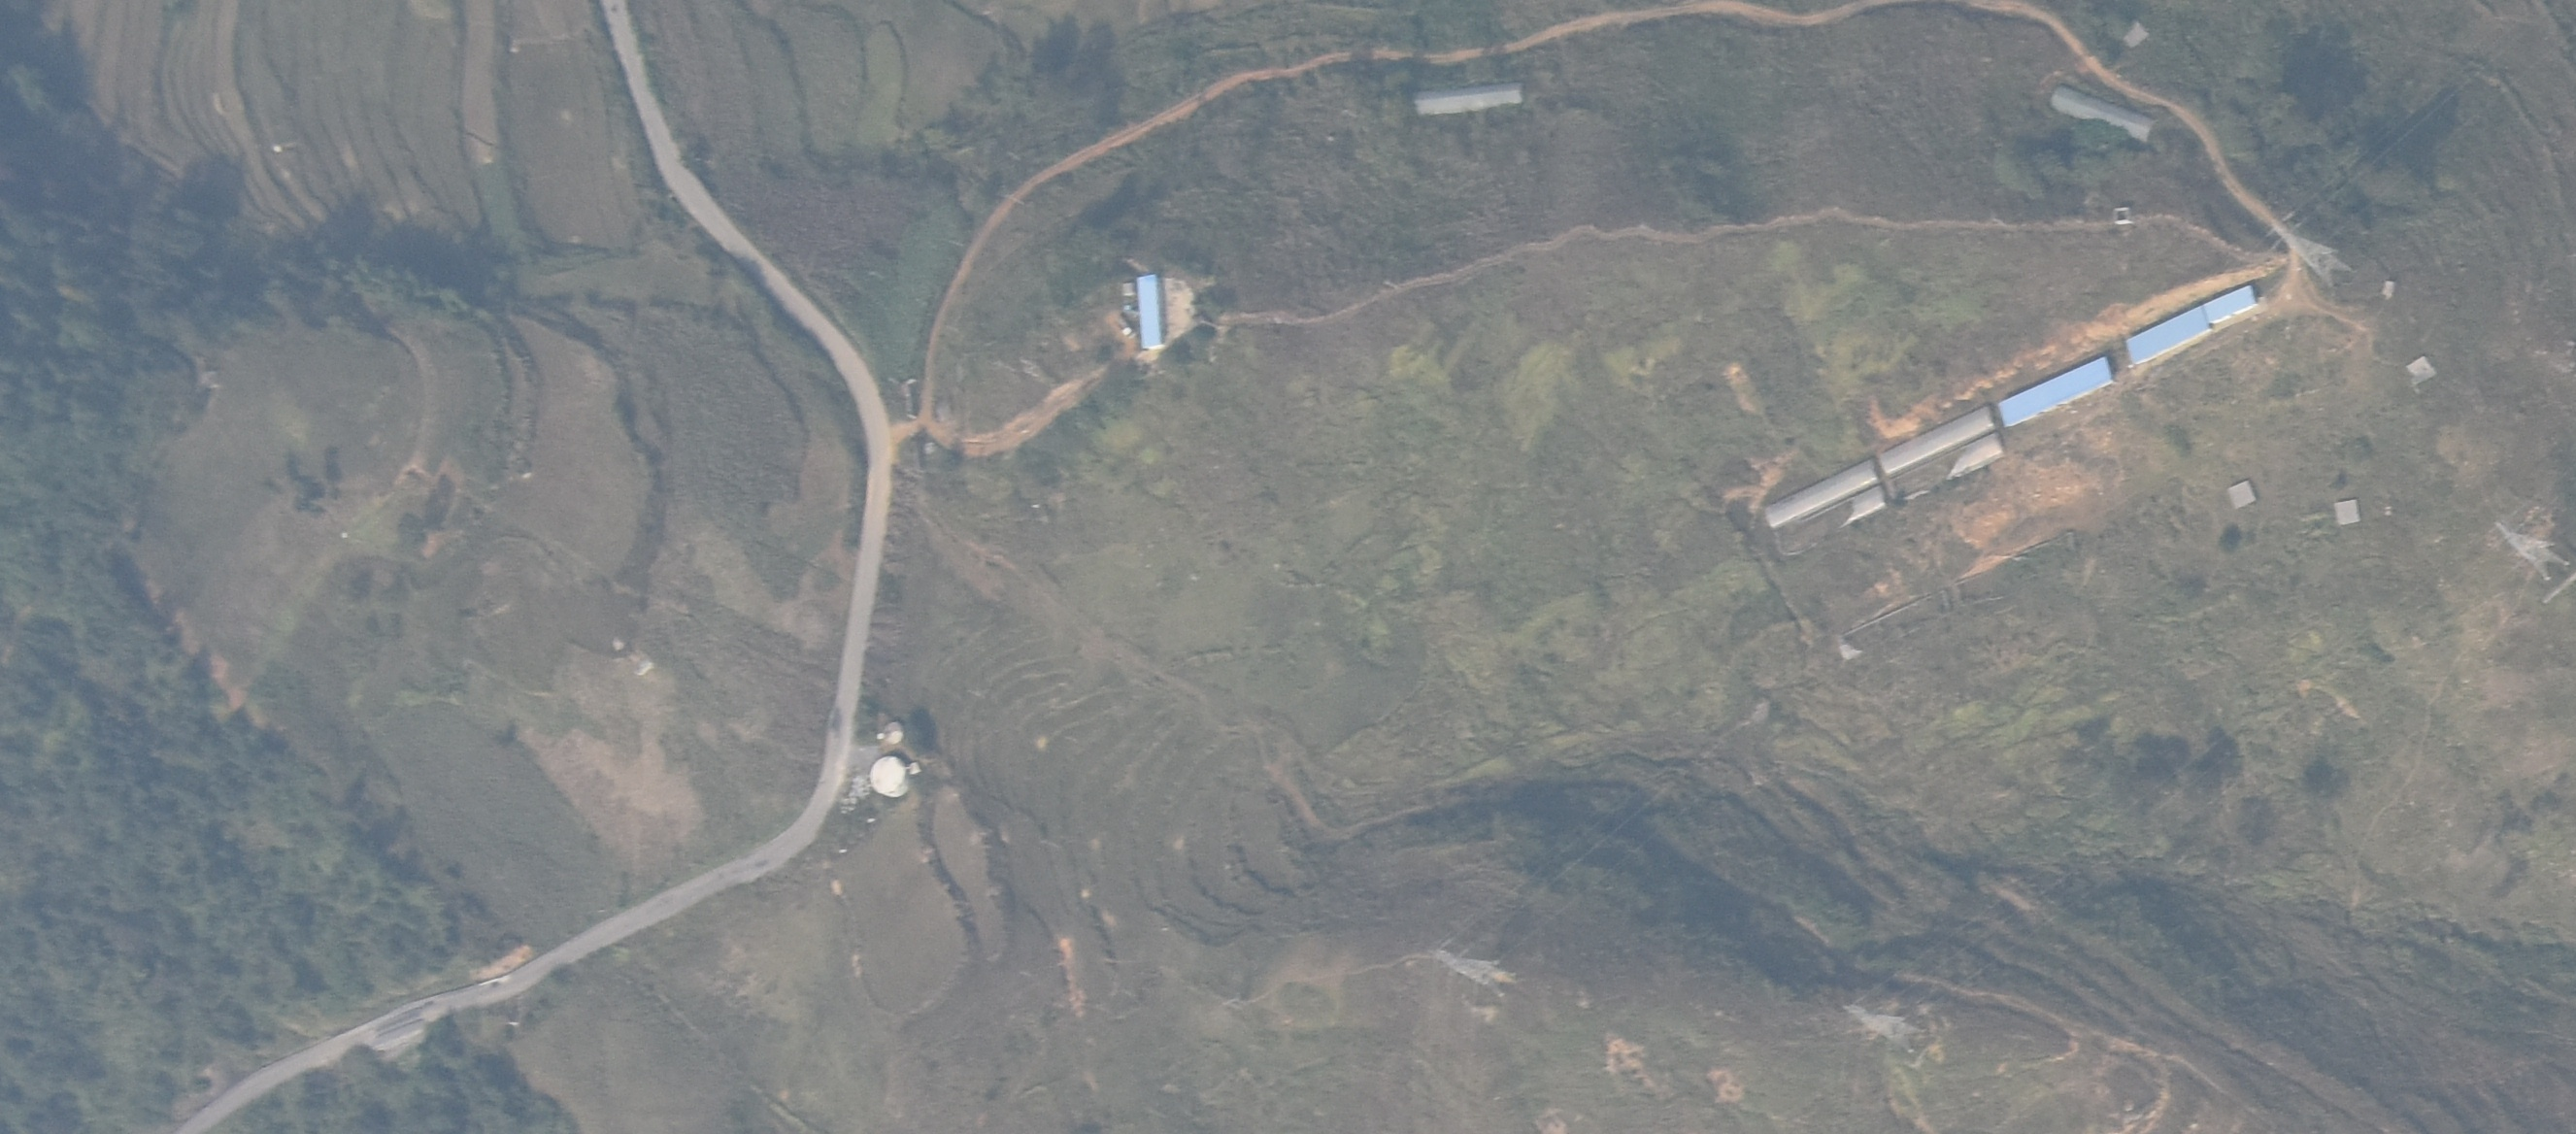building: (2407, 355, 2440, 387), (2227, 479, 2258, 511), (2332, 495, 2362, 527)
cable-tower: (2484, 514, 2573, 610)
prefabricated-house: (1741, 448, 1887, 533), (1986, 352, 2121, 432), (1882, 399, 2000, 479), (2049, 73, 2156, 148), (2115, 304, 2210, 378), (1128, 268, 1175, 364), (2198, 278, 2269, 341), (1415, 84, 1547, 114)
vehicle: (1106, 314, 1138, 342), (1117, 280, 1140, 314)
well: (860, 748, 909, 801), (876, 717, 909, 746)
